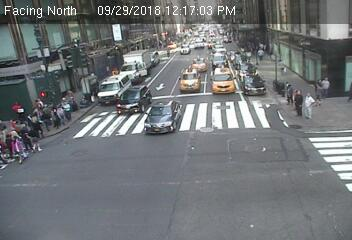car: (120, 49, 151, 83), (94, 75, 128, 105), (147, 101, 182, 130), (115, 87, 151, 112), (211, 68, 236, 91), (181, 66, 198, 96), (245, 76, 267, 97), (239, 62, 256, 80), (209, 54, 228, 68), (192, 56, 207, 73), (150, 50, 159, 66), (194, 36, 203, 50), (179, 45, 190, 55), (215, 44, 226, 54)
